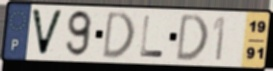1: (211, 14, 227, 63)
9: (63, 9, 95, 59)
D: (174, 12, 210, 64), (100, 10, 136, 61)
L: (139, 14, 166, 59)
V: (29, 8, 65, 58)
